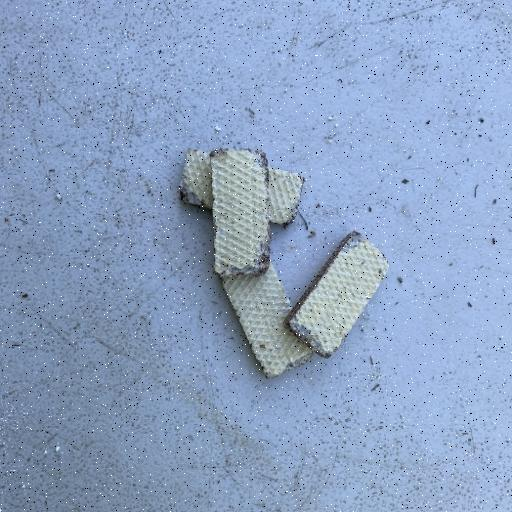Waste: (177, 144, 390, 380), (282, 230, 390, 358), (218, 261, 314, 380), (208, 146, 272, 278)
